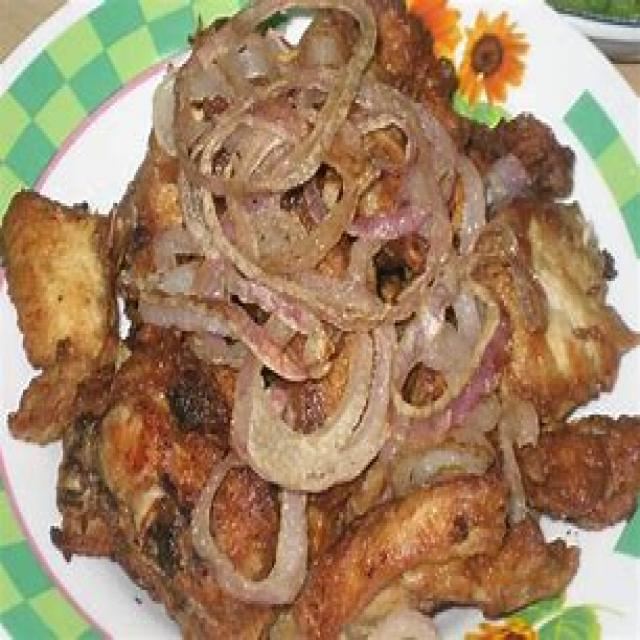Chicken Wings: (2, 3, 638, 637)
Onion Rings: (128, 17, 506, 604)
